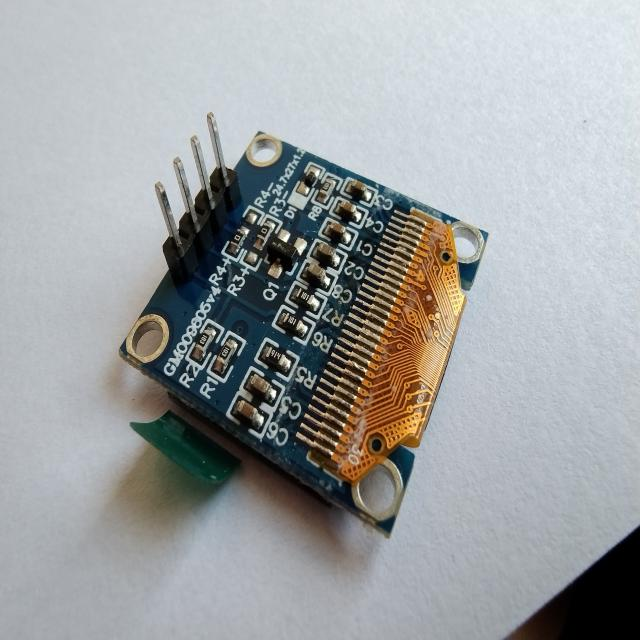oled: (116, 92, 495, 580)
